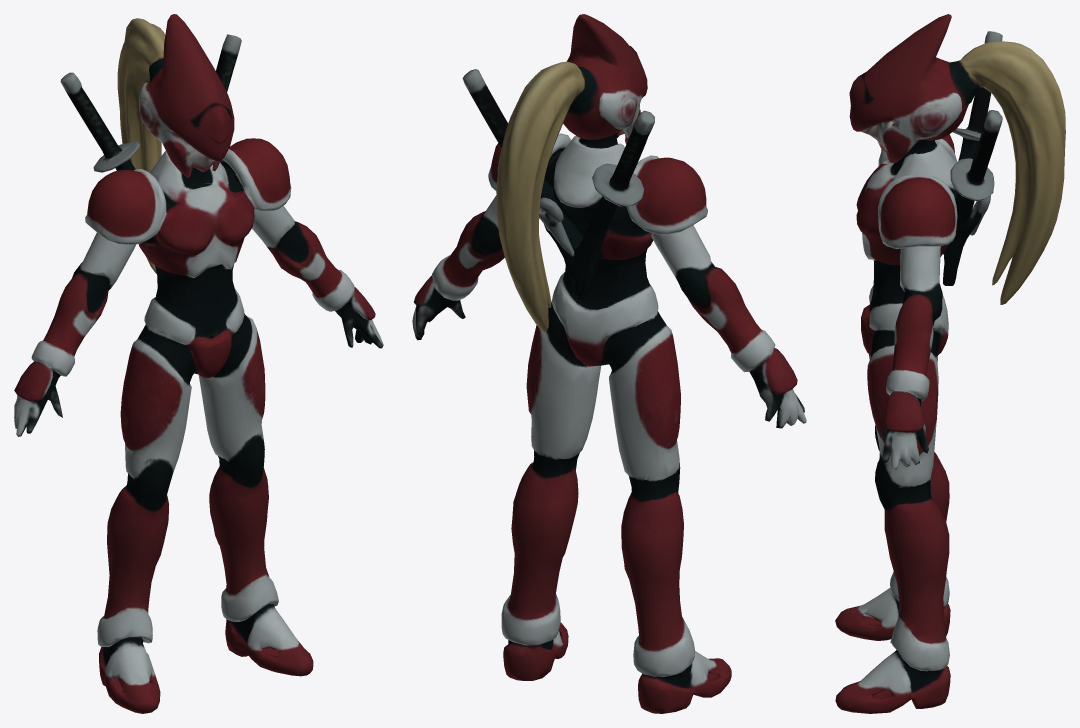
File: hero-crimson.glb
3 views of the same model, side by side, from view 1: azimuth 30°, elevation 25°; view 2: azimuth 150°, elevation 25°; view 3: azimuth 270°, elevation 25° (orthographic). The views are drawn at different scales.
Visible parts, largest first — view 1: world; view 2: world; view 3: world.
Boxes of the visible parts, x1,y1,x2,y2 form: world: (14,14,383,713); world: (412,14,806,713); world: (835,14,1065,713).
Bounding box in the file's own units: 0.5998 × 1 × 0.3206.
Materials: 1 (1 with a texture image).
